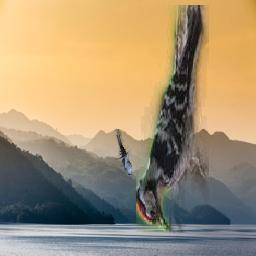Cuckoo: (116, 130, 133, 177)
Woodpecker: (137, 5, 210, 233)
